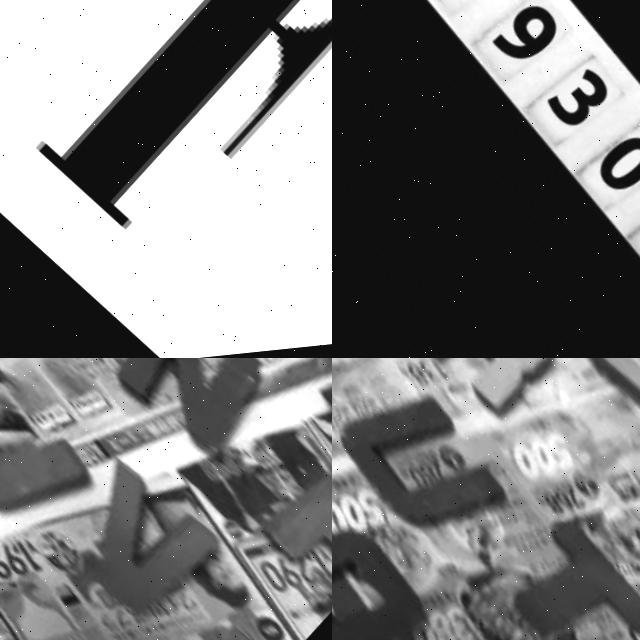0: (560, 113, 640, 225), (410, 0, 526, 28)
3: (519, 51, 624, 155), (612, 184, 640, 291)
9: (460, 0, 578, 96)
C: (560, 358, 640, 438)
F: (0, 0, 332, 304)
J: (0, 358, 89, 553)
N: (87, 358, 271, 474)
O: (332, 496, 439, 640)
R: (393, 358, 568, 433)
T: (481, 515, 640, 640)
U: (332, 361, 525, 580)
V: (27, 450, 223, 640)
